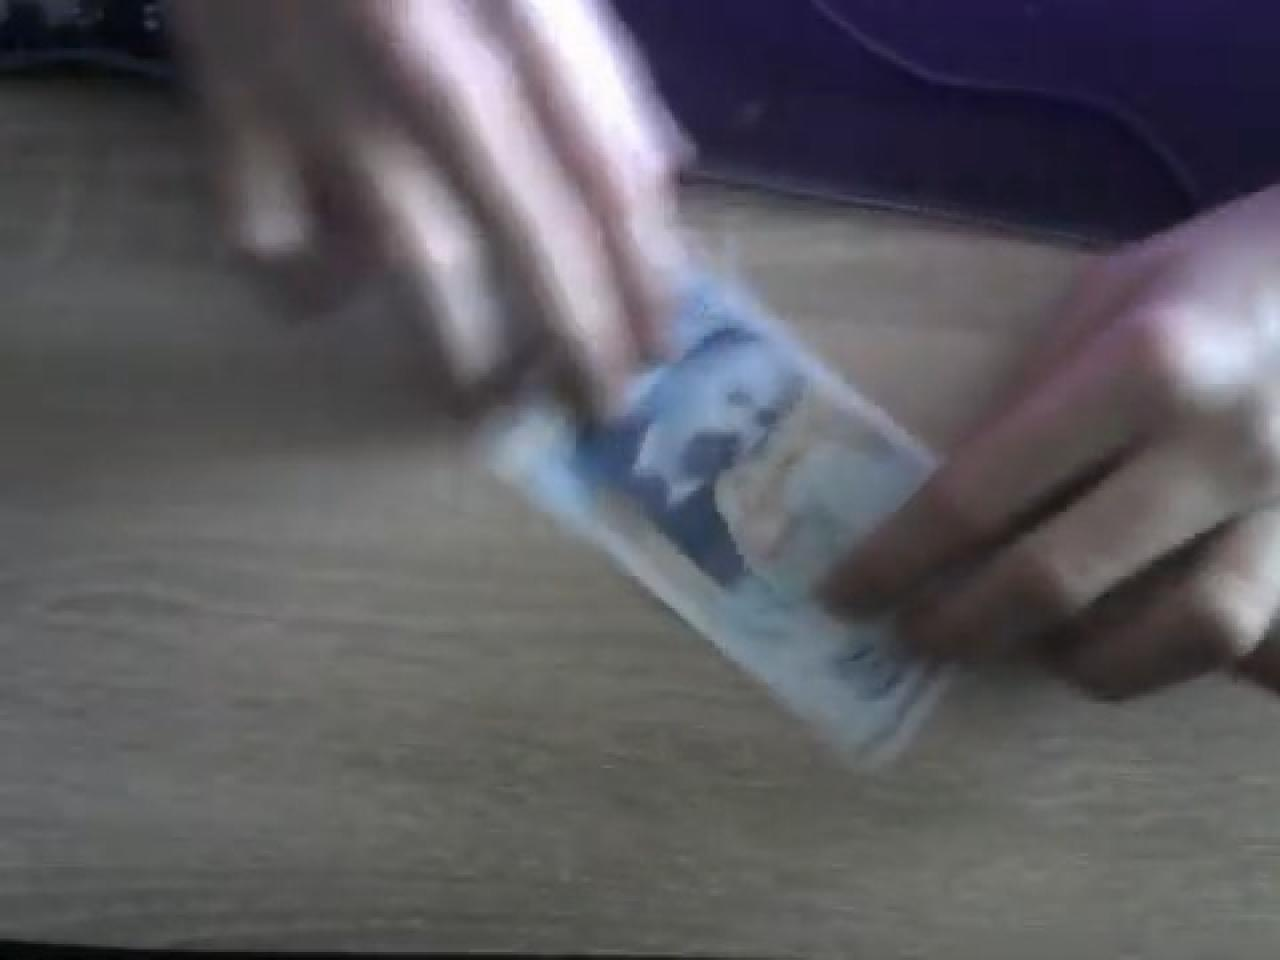20leva: (486, 264, 946, 768), (493, 266, 944, 765)
